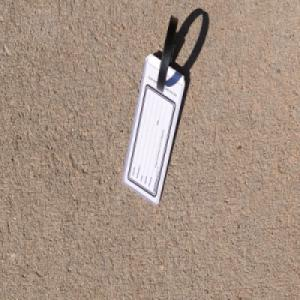LuggageTag: (121, 12, 186, 206)
